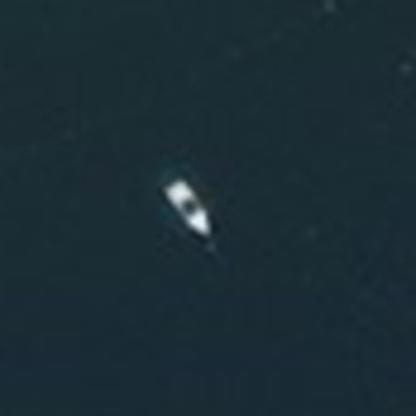ship: (151, 168, 224, 247)
